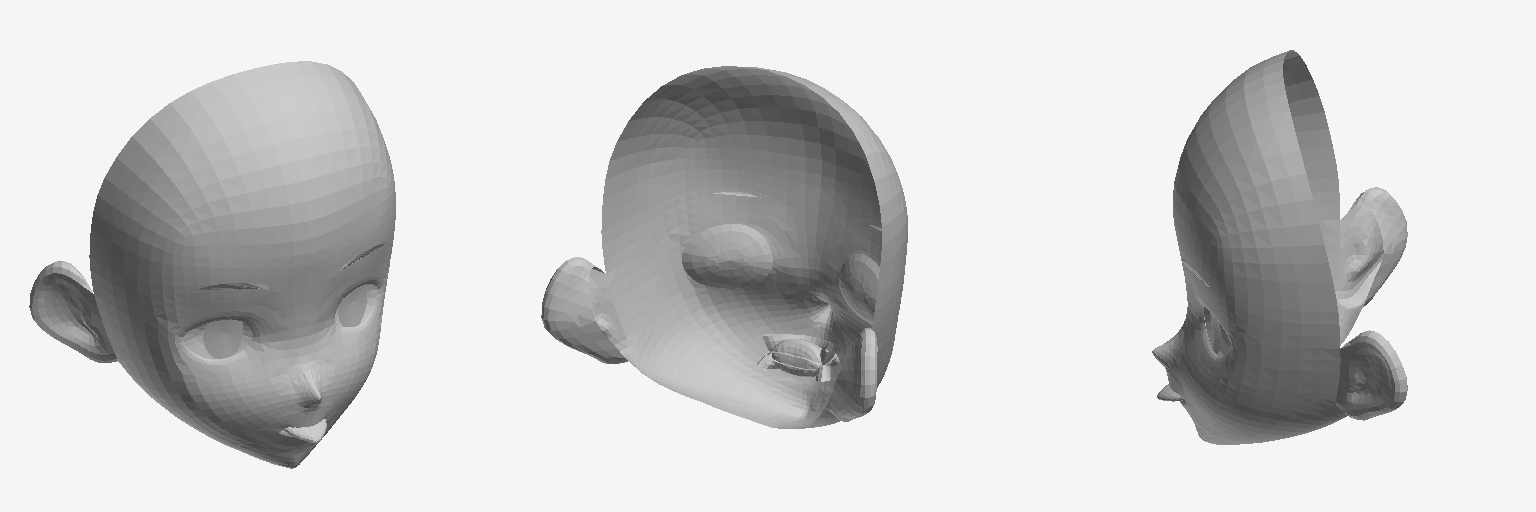
File: tongueOut.obj
3 renders of one model, left to right at view 1: azimuth 30°, elevation 25°; view 2: azimuth 150°, elevation 25°; view 3: azimuth 270°, elevation 25°, orthographic.
Visible parts, largest first — view 1: Face; view 2: Face; view 3: Face.
Boxes of the visible parts, x1=… form: Face: x1=29, y1=61, x2=395, y2=468; Face: x1=541, y1=66, x2=907, y2=428; Face: x1=1152, y1=50, x2=1407, y2=444.
Bounding box in the file's own units: 0.2176 × 0.2333 × 0.1449.